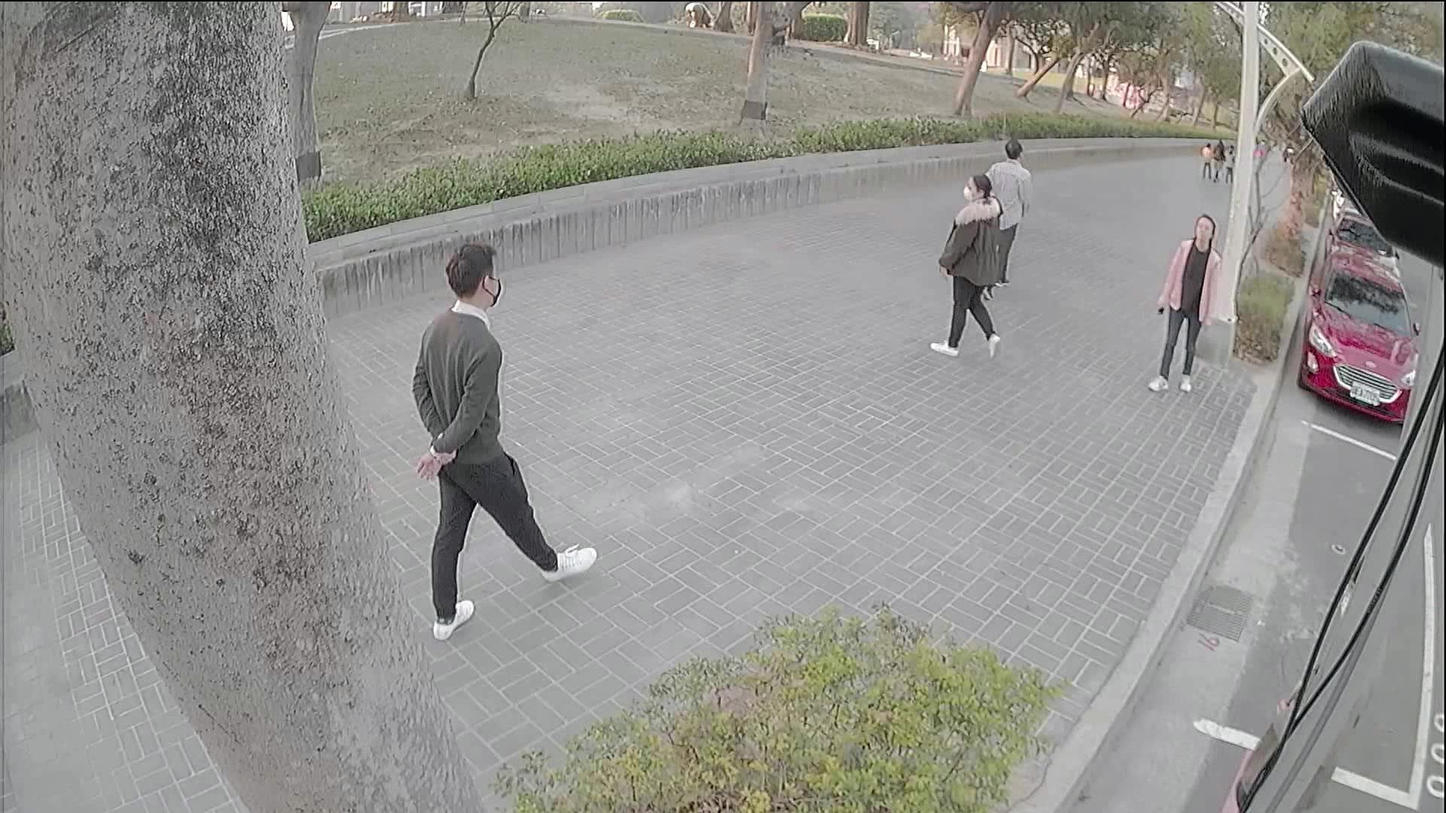person: (413, 239, 557, 634), (926, 170, 1001, 358), (1147, 212, 1225, 391), (985, 136, 1032, 286)
